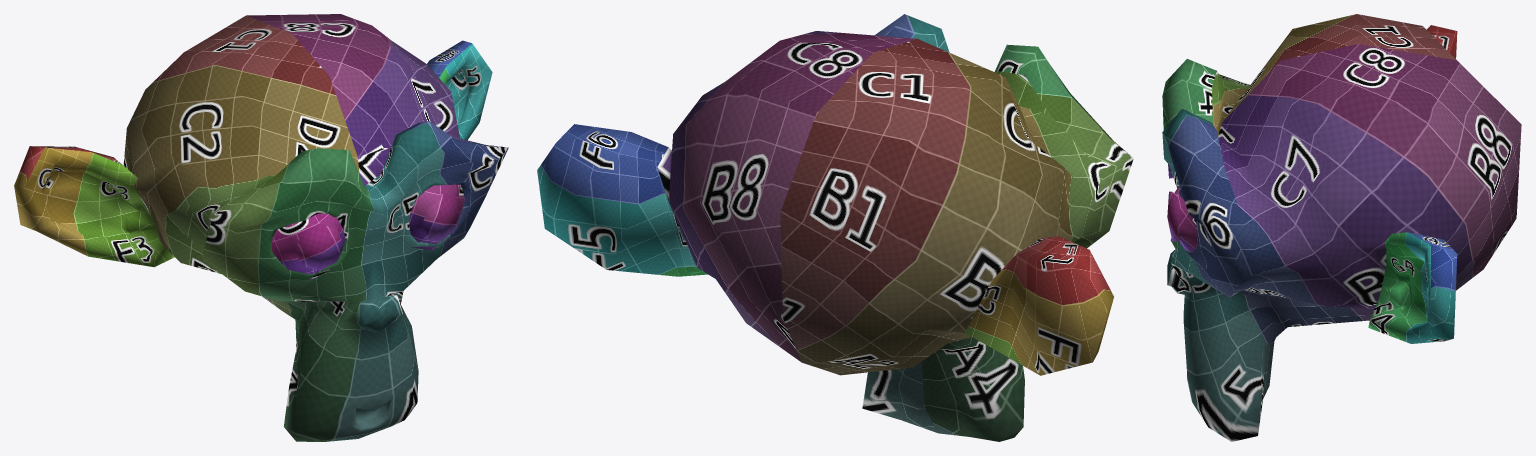
File: monkey_textured.glb
3 renders of one model, left to right at view 1: azimuth 30°, elevation 25°; view 2: azimuth 150°, elevation 25°; view 3: azimuth 270°, elevation 25°, orthographic. The views are drawn at different scales.
Visible parts, largest first — view 1: Suzanne; view 2: Suzanne; view 3: Suzanne.
Boxes of the visible parts, x1=… form: Suzanne: x1=14, y1=14, x2=508, y2=441; Suzanne: x1=537, y1=14, x2=1133, y2=441; Suzanne: x1=1162, y1=14, x2=1521, y2=441.
Size of what is drawn, in the model's own units: 2.73 by 1.97 by 1.7.
Materials: 1 (1 with a texture image).
